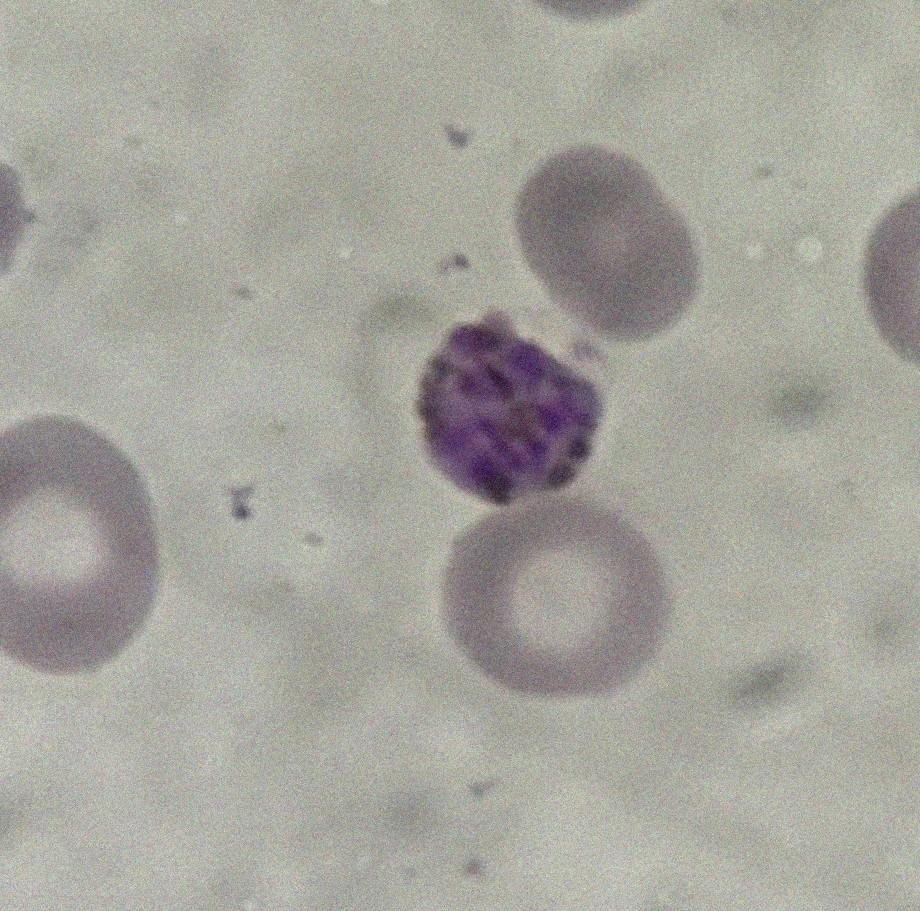Infected: (420, 317, 607, 497)
Uninfected: (442, 497, 663, 697), (0, 421, 159, 668), (520, 145, 699, 341)
